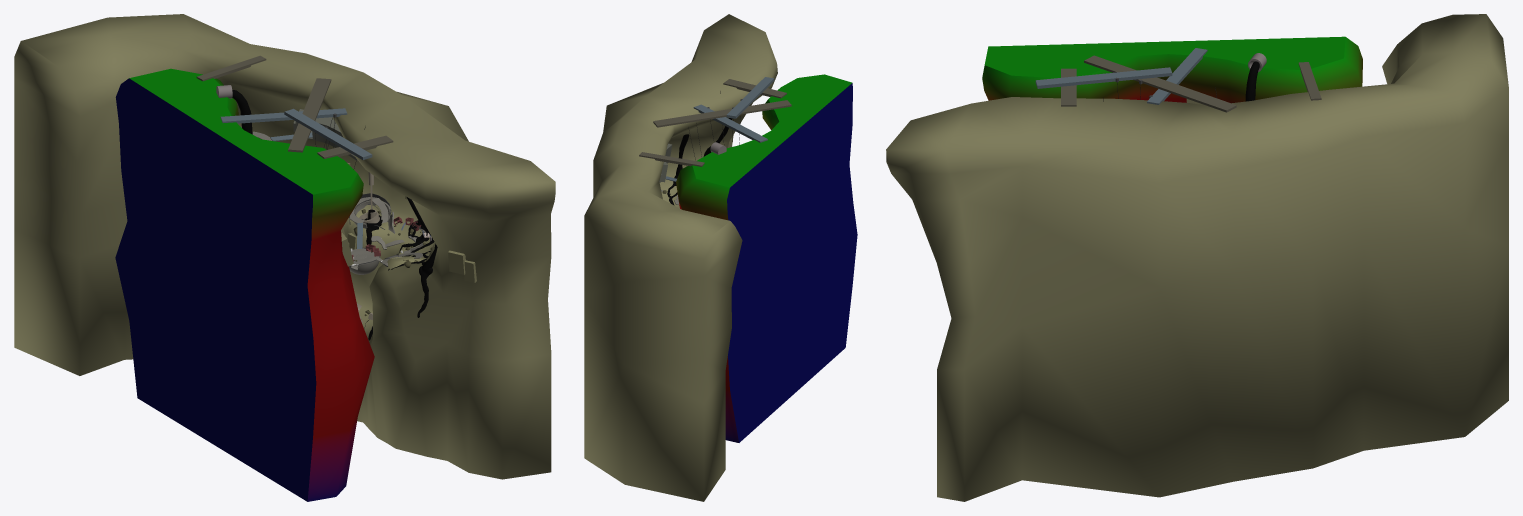
File: domicanyonmap.fbx
3 renders of one model, left to right at view 1: azimuth 30°, elevation 25°; view 2: azimuth 150°, elevation 25°; view 3: azimuth 270°, elevation 25°, orthographic. The views are drawn at different scales.
Visible parts, largest first — view 1: east cliff.001, west cliff.001, new tar, top bridge.007, top bridge.009, platforms east.001, top bridge.006, tar chutes.001; view 2: east cliff.001, west cliff.001, top bridge.007, top bridge.009, top bridge.006, top bridge.005, top bridge.008, tar chutes.001; view 3: east cliff.001, west cliff.001, top bridge.007, top bridge.009, top bridge.006.
Boxes of the visible parts, left/top/right/bottom form: east cliff.001: left=14, top=14, right=555, bottom=479; west cliff.001: left=115, top=68, right=374, bottom=501; new tar: left=362, top=209, right=434, bottom=340; top bridge.007: left=288, top=78, right=331, bottom=152; top bridge.009: left=284, top=108, right=372, bottom=159; platforms east.001: left=350, top=197, right=426, bottom=266; top bridge.006: left=220, top=108, right=347, bottom=123; tar chutes.001: left=232, top=89, right=437, bottom=273; east cliff.001: left=584, top=14, right=777, bottom=501; west cliff.001: left=676, top=74, right=857, bottom=442; top bridge.007: left=653, top=100, right=791, bottom=127; top bridge.009: left=726, top=77, right=774, bottom=118; top bridge.006: left=693, top=104, right=767, bottom=142; top bridge.005: left=723, top=79, right=786, bottom=98; top bridge.008: left=639, top=152, right=704, bottom=166; tar chutes.001: left=676, top=118, right=732, bottom=175; east cliff.001: left=886, top=14, right=1508, bottom=501; west cliff.001: left=982, top=36, right=1362, bottom=103; top bridge.007: left=1084, top=55, right=1236, bottom=112; top bridge.009: left=1035, top=67, right=1172, bottom=88; top bridge.006: left=1147, top=48, right=1207, bottom=104.
Bounding box in the file's own units: 203 × 219 × 356.
